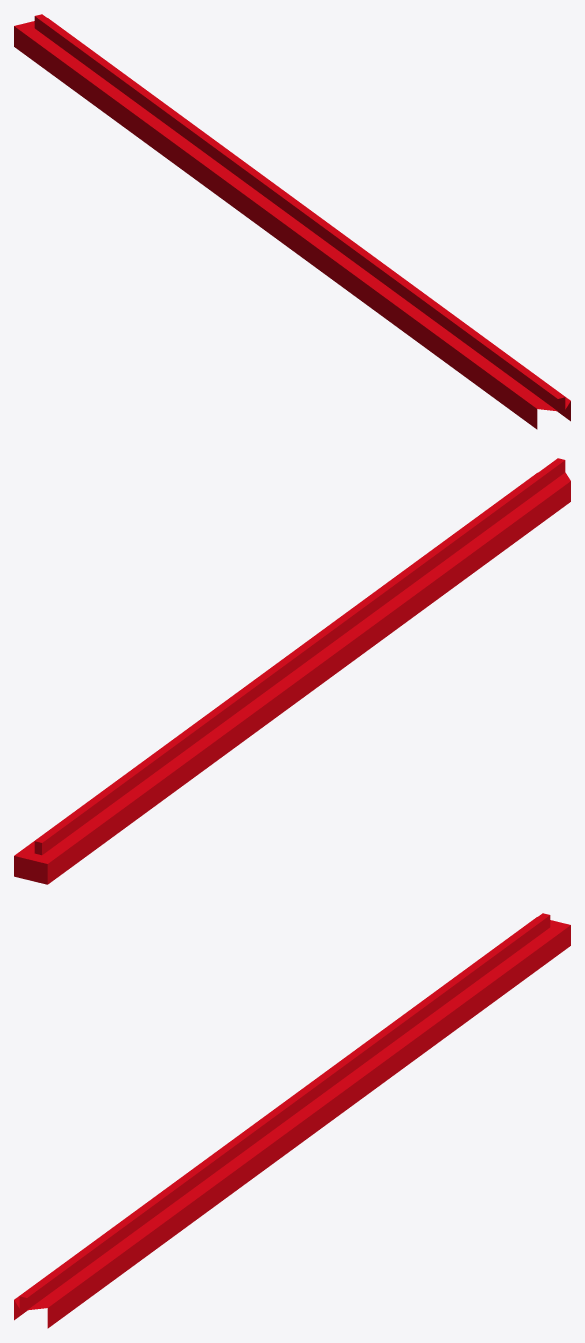
The model's file is Barrack_Rails.fbx.
3 views of the same model, one above another, from view 1: azimuth 30°, elevation 25°; view 2: azimuth 150°, elevation 25°; view 3: azimuth 330°, elevation 25° (orthographic).
Visible parts, largest first — view 1: mesh_Rails_Barrack; view 2: mesh_Rails_Barrack; view 3: mesh_Rails_Barrack.
Part boxes in pixels (bbox=[...]): mesh_Rails_Barrack: bbox=[14, 14, 570, 429]; mesh_Rails_Barrack: bbox=[14, 458, 570, 884]; mesh_Rails_Barrack: bbox=[14, 913, 570, 1328].
Bounding box in the file's own units: 4.04 × 3.78 × 110.
